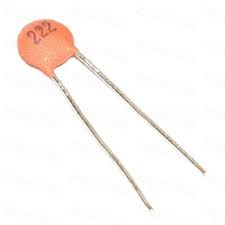ceramic capacitor: (1, 8, 98, 104)
